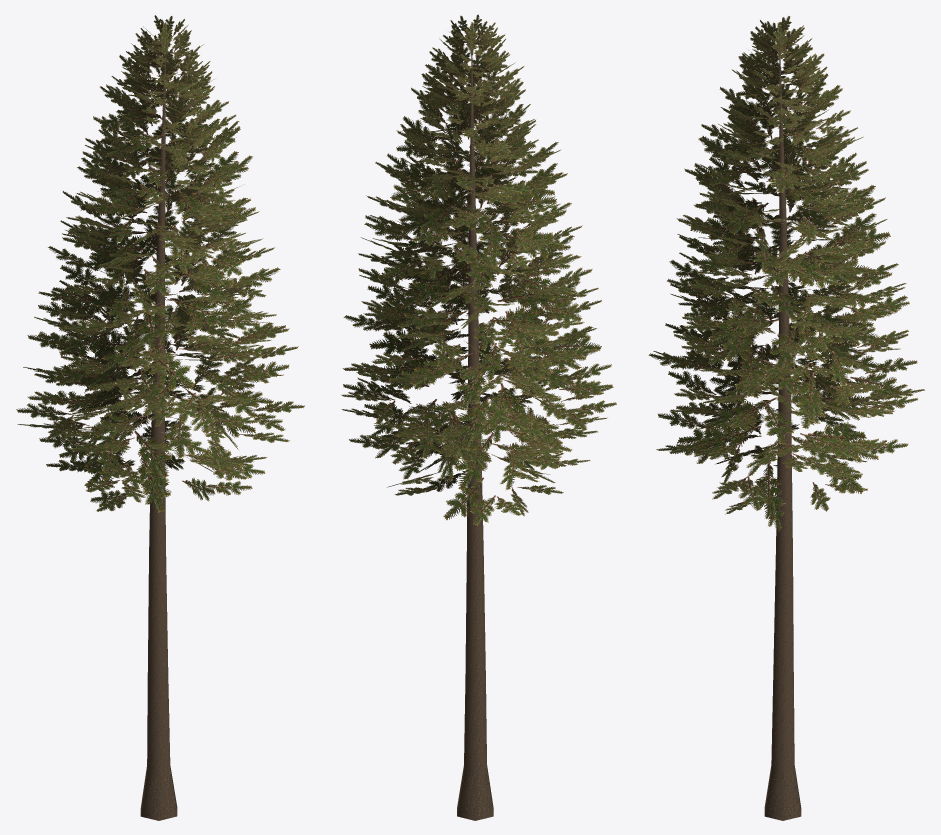
File: fir_giant_b_lod2.gltf
3 views of the same model, side by side, from view 1: azimuth 30°, elevation 25°; view 2: azimuth 150°, elevation 25°; view 3: azimuth 270°, elevation 25° (orthographic).
Visible parts, largest first — view 1: fir_giant_b_LOD2; view 2: fir_giant_b_LOD2; view 3: fir_giant_b_LOD2.
Boxes of the visible parts, x1,y1,x2,y2 form: fir_giant_b_LOD2: (16, 15, 304, 820); fir_giant_b_LOD2: (341, 14, 616, 820); fir_giant_b_LOD2: (648, 16, 924, 820).
Bounding box in the file's own units: 14.4 × 44.6 × 14.19.
2 materials, 2 textured.
